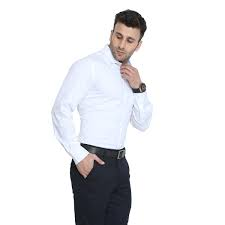F_belt: (70, 139, 134, 164)
F_dress pants: (71, 145, 135, 225)
F_shirt: (45, 41, 158, 163)
